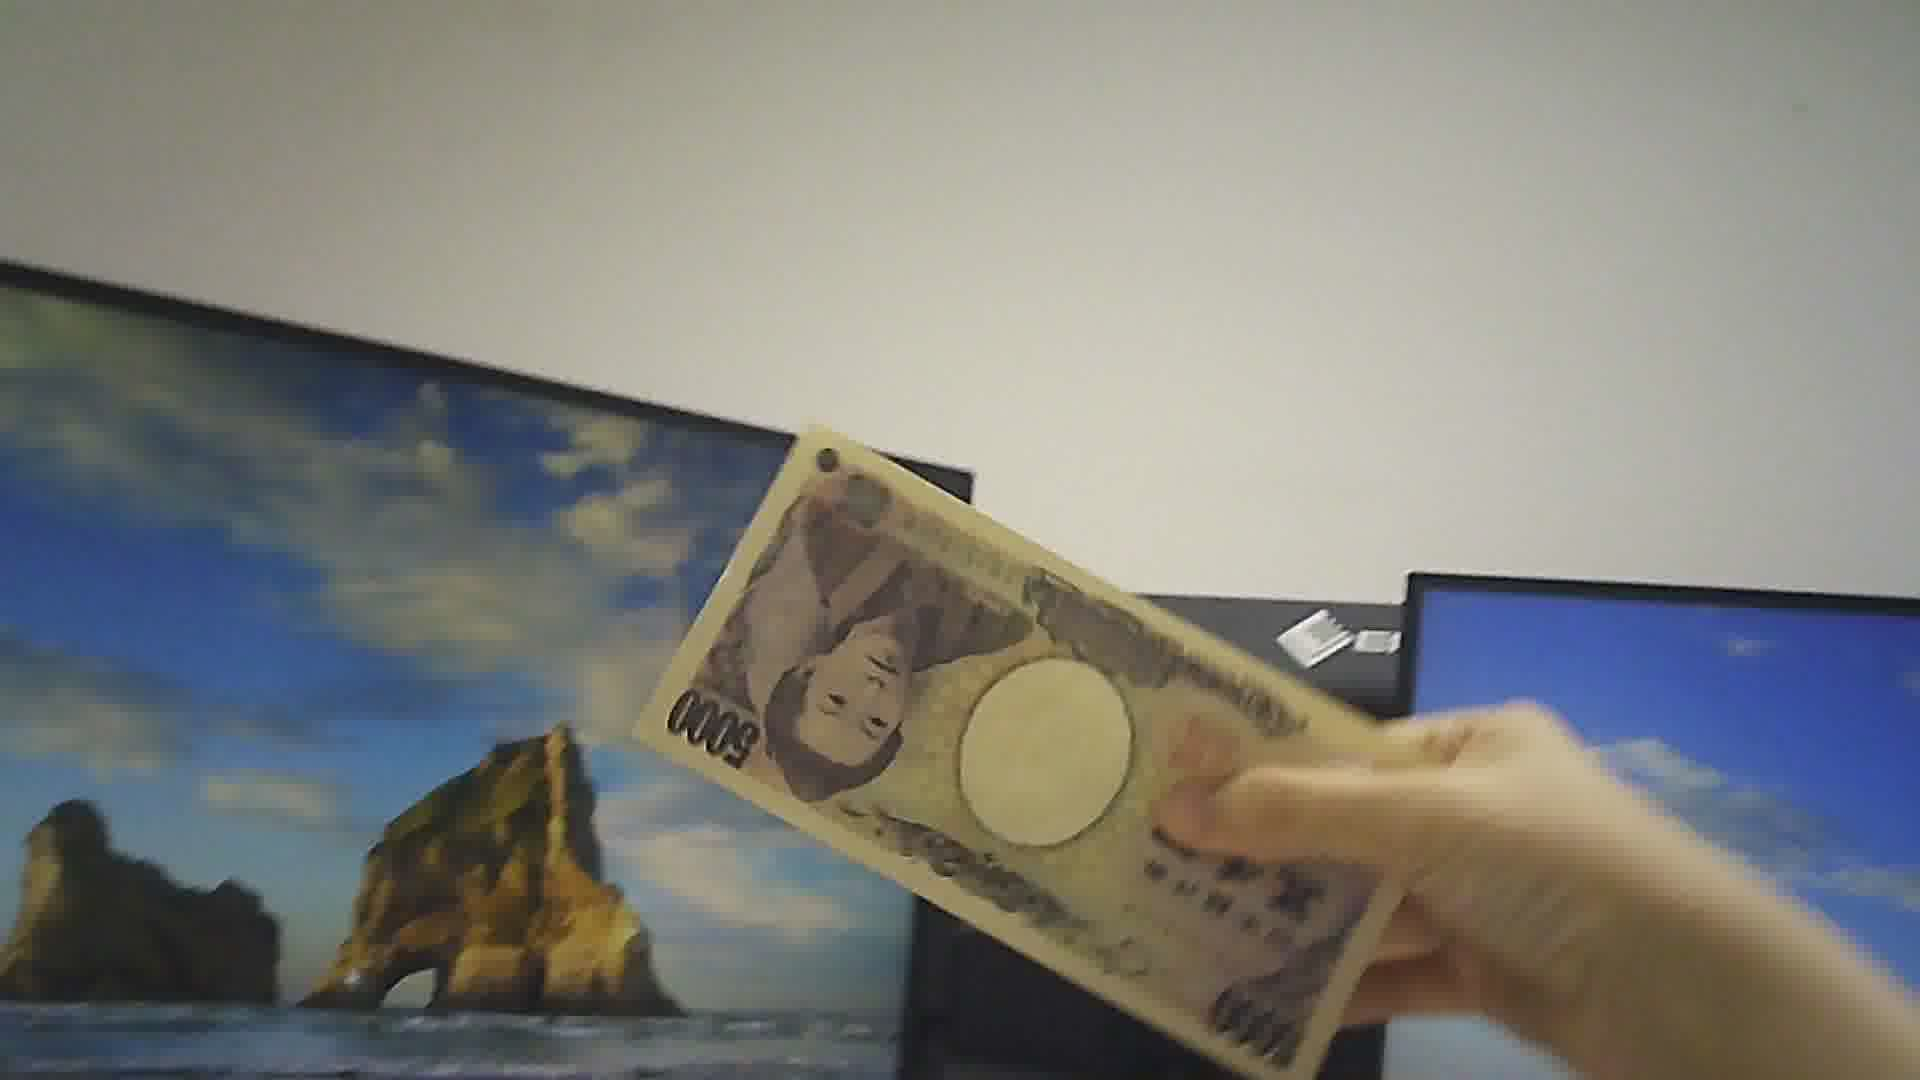5,000 Yen: (618, 425, 1424, 1065)
